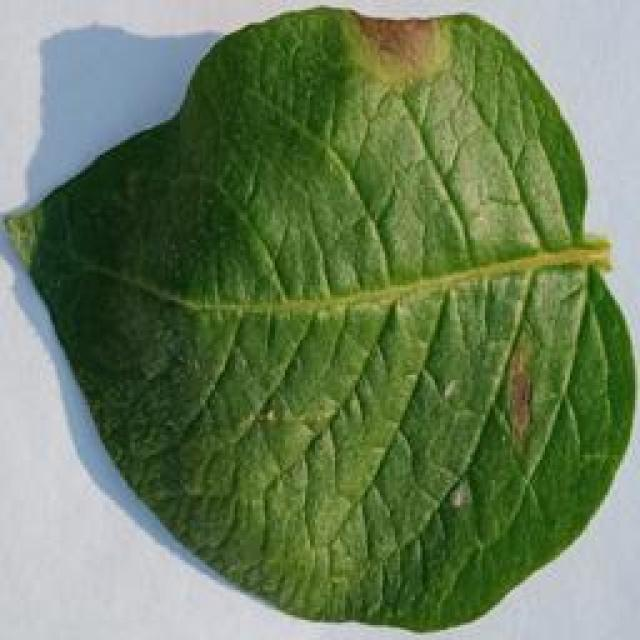Potato_Late_Blight: (3, 12, 623, 631)
